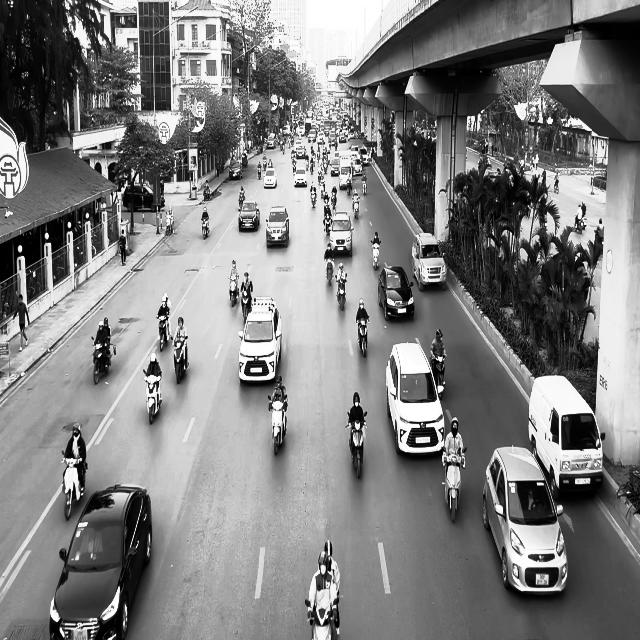car: (49, 484, 152, 640), (482, 445, 568, 596), (386, 338, 445, 456), (238, 296, 282, 384), (411, 232, 447, 291), (378, 264, 415, 321), (329, 211, 354, 256), (265, 205, 289, 248), (238, 200, 260, 232), (263, 166, 277, 188), (228, 160, 242, 180)
motorbike: (441, 446, 467, 522), (61, 450, 87, 520), (346, 411, 367, 478), (91, 336, 116, 385), (268, 394, 288, 455), (143, 368, 162, 424), (429, 350, 446, 398), (173, 335, 189, 384), (356, 316, 370, 357), (156, 314, 170, 352), (335, 274, 347, 310), (240, 291, 252, 324), (228, 275, 239, 307), (370, 239, 381, 269), (324, 256, 334, 285), (165, 213, 174, 235), (201, 218, 209, 240)
truck: (528, 374, 604, 499)
